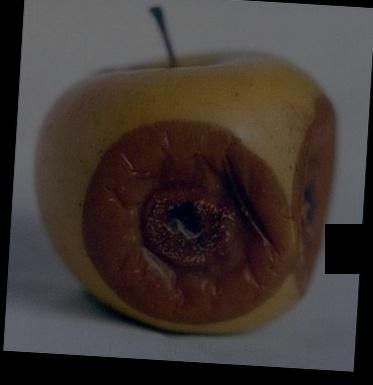rotten apple: (27, 47, 344, 333)
